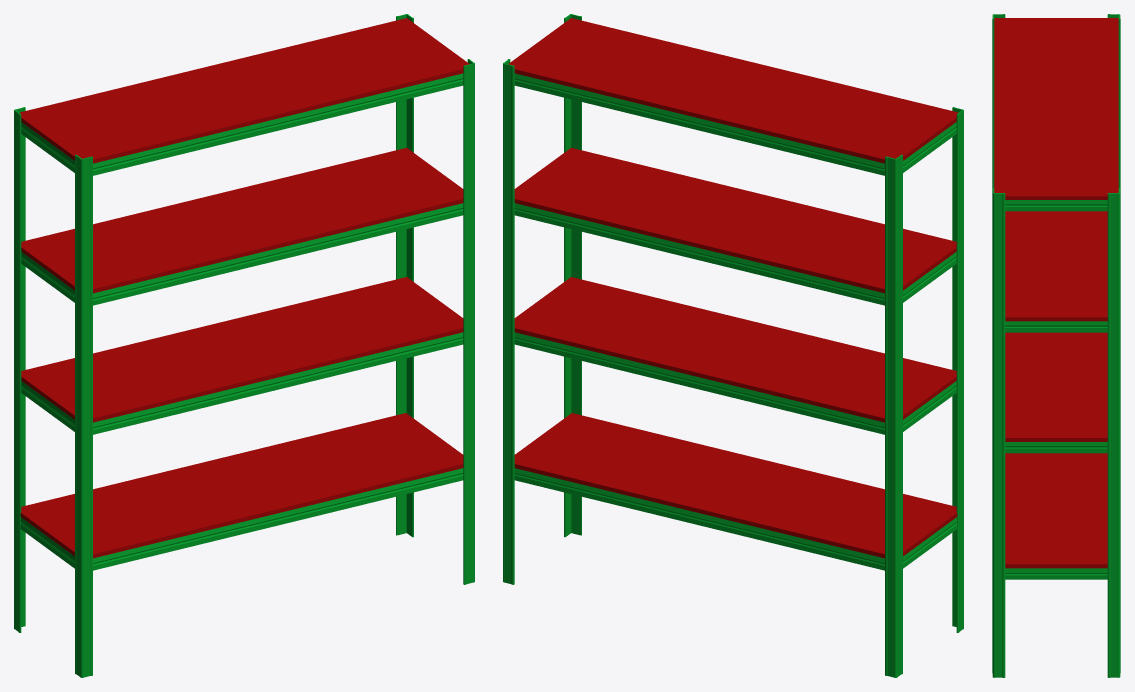
The model's file is SM_shelves_chemicals.fbx.
The picture shows the model from 3 angles, left to right: view 1: azimuth 30°, elevation 25°; view 2: azimuth 150°, elevation 25°; view 3: azimuth 270°, elevation 25°; orthographic projection. The views are drawn at different scales.
Parts seen in each view (by area): view 1: SM_shelves_chemicals; view 2: SM_shelves_chemicals; view 3: SM_shelves_chemicals.
Part boxes in pixels (x1,y1,x2,y2): SM_shelves_chemicals: [14, 14, 474, 677]; SM_shelves_chemicals: [503, 14, 963, 677]; SM_shelves_chemicals: [992, 14, 1120, 677].
Bounding box in the file's own units: 1.99 × 2.5 × 0.5997.
